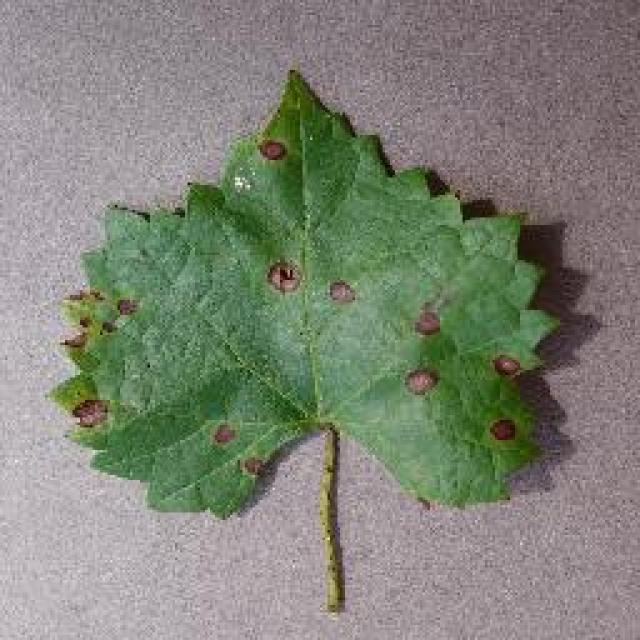Grape___Black_rot: (38, 61, 570, 614)
